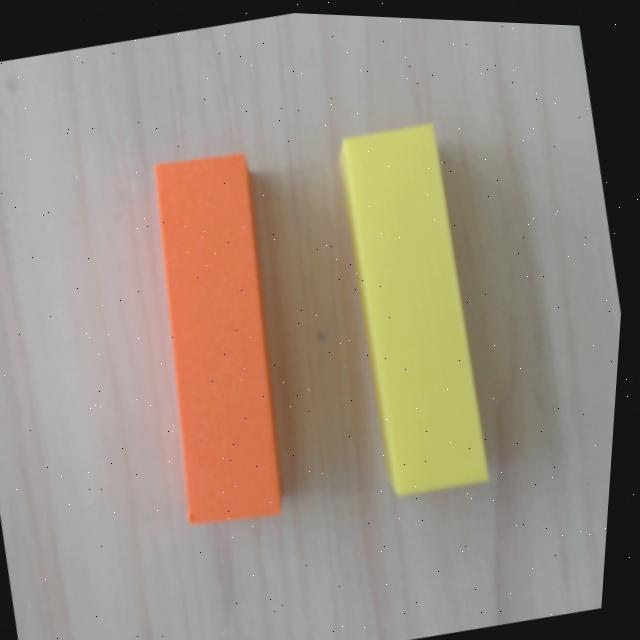Balok-Jingga-1002525: (154, 152, 282, 523)
Balok-Kuning-1002525: (336, 122, 489, 495)
